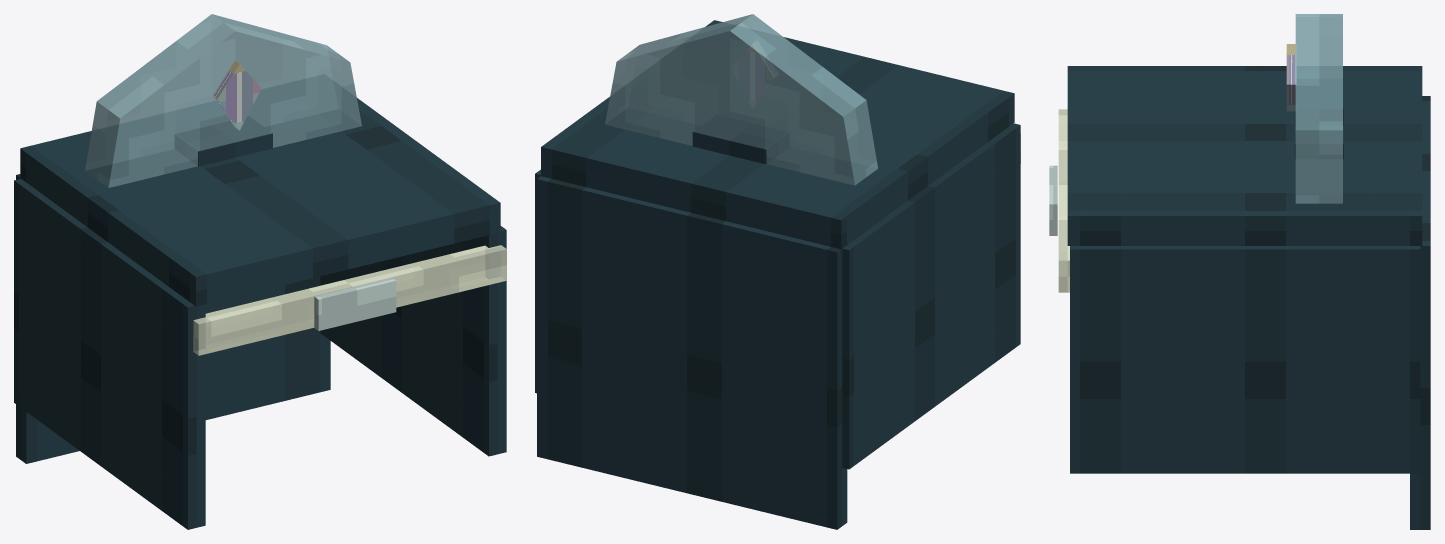
File: yuanying_jiuse_helmet.obj
3 renders of one model, left to right at view 1: azimuth 30°, elevation 25°; view 2: azimuth 150°, elevation 25°; view 3: azimuth 270°, elevation 25°, orthographic. The views are drawn at different scales.
Parts seen in each view (by area): view 1: cap_top, cap_side_-1, jiu_crown, cap_side_1, cap_back, cap_brow, glass_crown_root, glass_brow_mark, jiu_crown_heart; view 2: cap_back, cap_top, cap_side_-1, jiu_crown, glass_crown_root, jiu_crown_heart; view 3: cap_side_1, cap_top, jiu_crown, cap_back, glass_crown_root, cap_brow, jiu_crown_heart, glass_brow_mark.
Boxes of the visible parts, left/top/right/bottom form: cap_top: left=20, top=98, right=500, bottom=306; cap_side_-1: left=14, top=179, right=205, bottom=529; jiu_crown: left=85, top=14, right=361, bottom=187; cap_side_1: left=320, top=226, right=506, bottom=456; cap_back: left=16, top=174, right=330, bottom=463; cap_brow: left=193, top=245, right=506, bottom=355; glass_crown_root: left=174, top=116, right=272, bottom=166; glass_brow_mark: left=314, top=277, right=396, bottom=330; jiu_crown_heart: left=213, top=61, right=261, bottom=130; cap_back: left=537, top=176, right=847, bottom=529; cap_top: left=541, top=20, right=1014, bottom=249; cap_side_-1: left=842, top=123, right=1020, bottom=469; jiu_crown: left=605, top=14, right=877, bottom=185; glass_crown_root: left=692, top=115, right=789, bottom=164; jiu_crown_heart: left=731, top=43, right=774, bottom=108; cap_side_1: left=1070, top=246, right=1420, bottom=473; cap_top: left=1067, top=66, right=1422, bottom=245; jiu_crown: left=1295, top=14, right=1342, bottom=203; cap_back: left=1410, top=96, right=1430, bottom=529; glass_crown_root: left=1294, top=107, right=1343, bottom=159; cap_brow: left=1058, top=109, right=1069, bottom=292; jiu_crown_heart: left=1286, top=44, right=1296, bottom=111; glass_brow_mark: left=1049, top=165, right=1057, bottom=235.
Size of the model in its own units: 0.5625 by 0.7375 by 0.5781.
